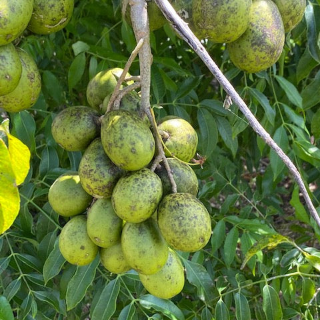coc: (100, 109, 155, 170), (157, 193, 212, 252), (51, 106, 99, 151)
